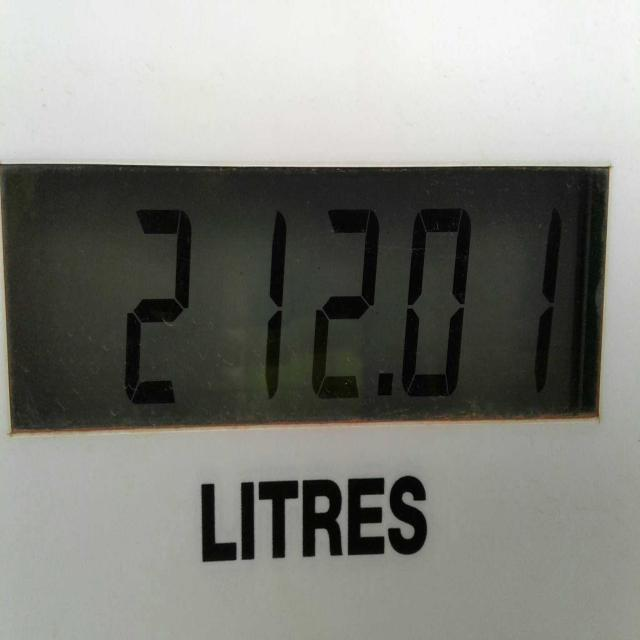.: (379, 377, 393, 398)
0: (403, 211, 469, 399)
1: (528, 208, 562, 390), (264, 204, 291, 401)
2: (311, 206, 378, 394), (124, 216, 192, 396)
